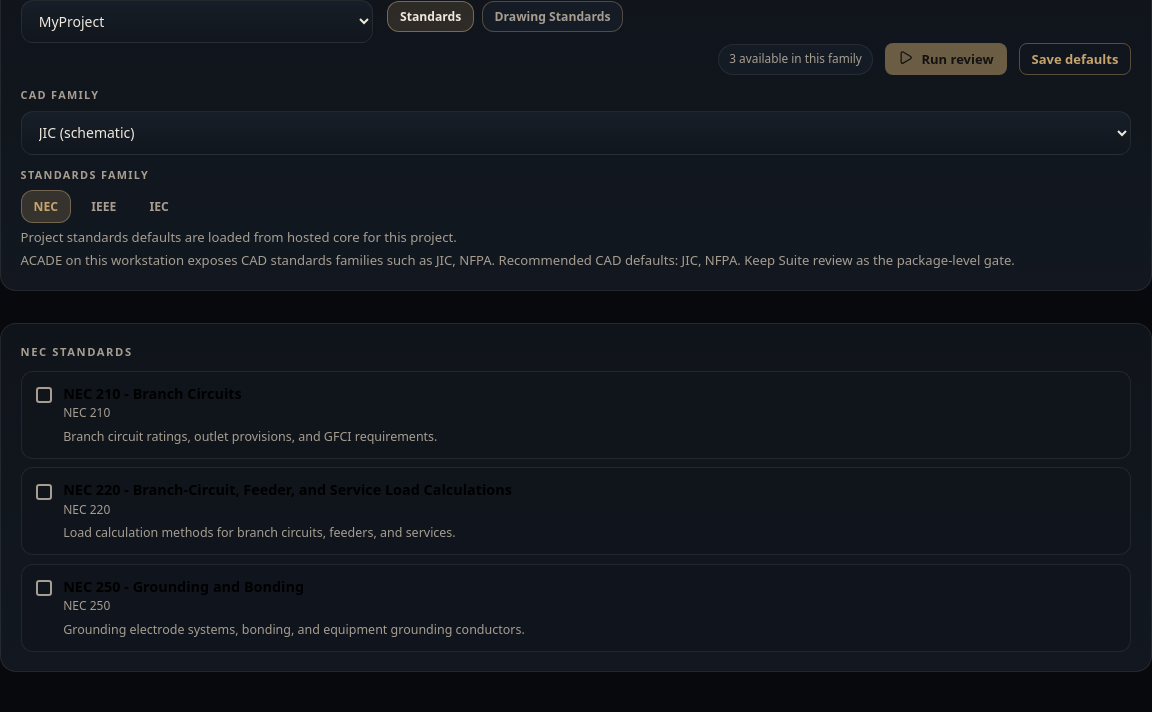
Test: StandardsChecker › updates the top band after a standards run finds blockers
This screenshot has width=1152, height=712.
(page scrolled)
expect the text "Project standards defaults are loaded from hosted core for this project." is shown: met, box [21,228,457,246]
Click the button "NEC 210": (152, 393) [21,371,1131,459]
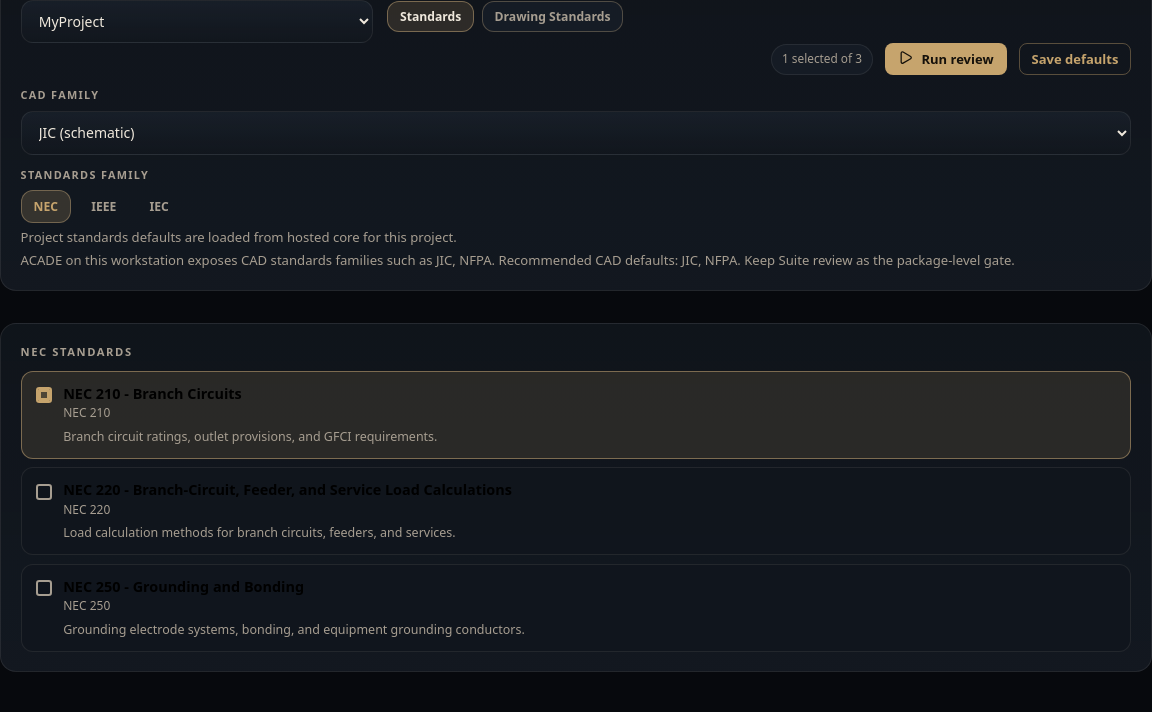
Click the button "Run review": (946, 59) [885,43,1006,75]
(page scrolled)
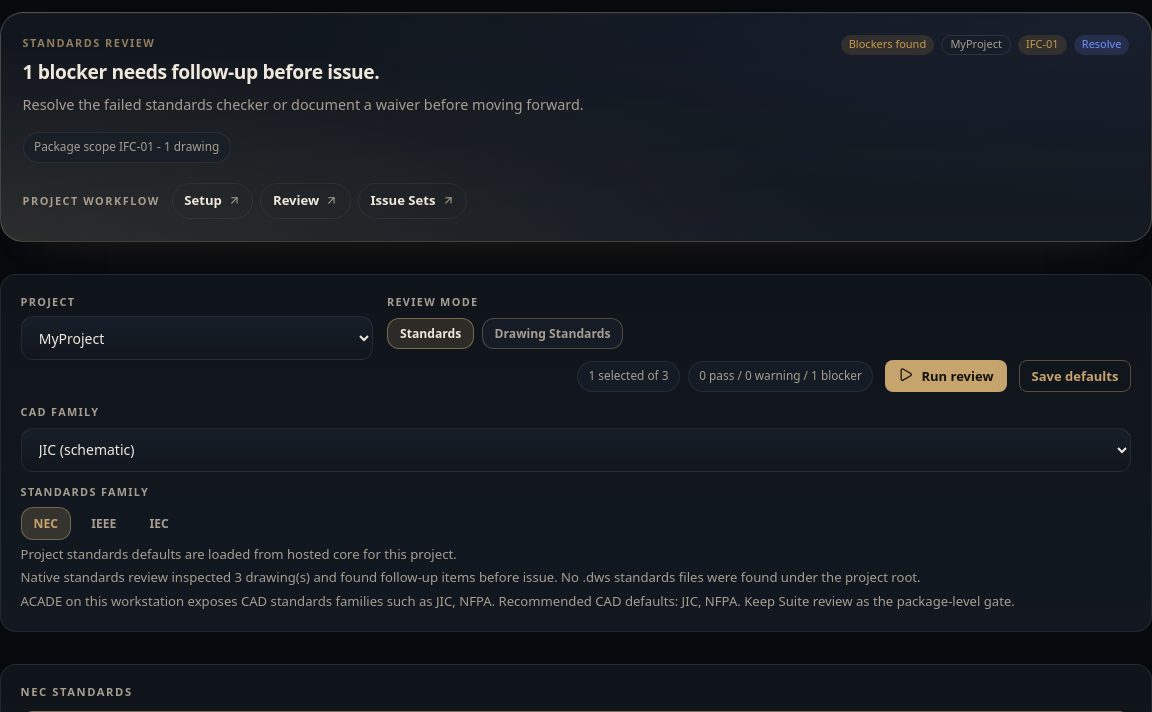
expect the text "1 blocker needs follow-up before issue." is shown: met, box [23,58,379,85]
